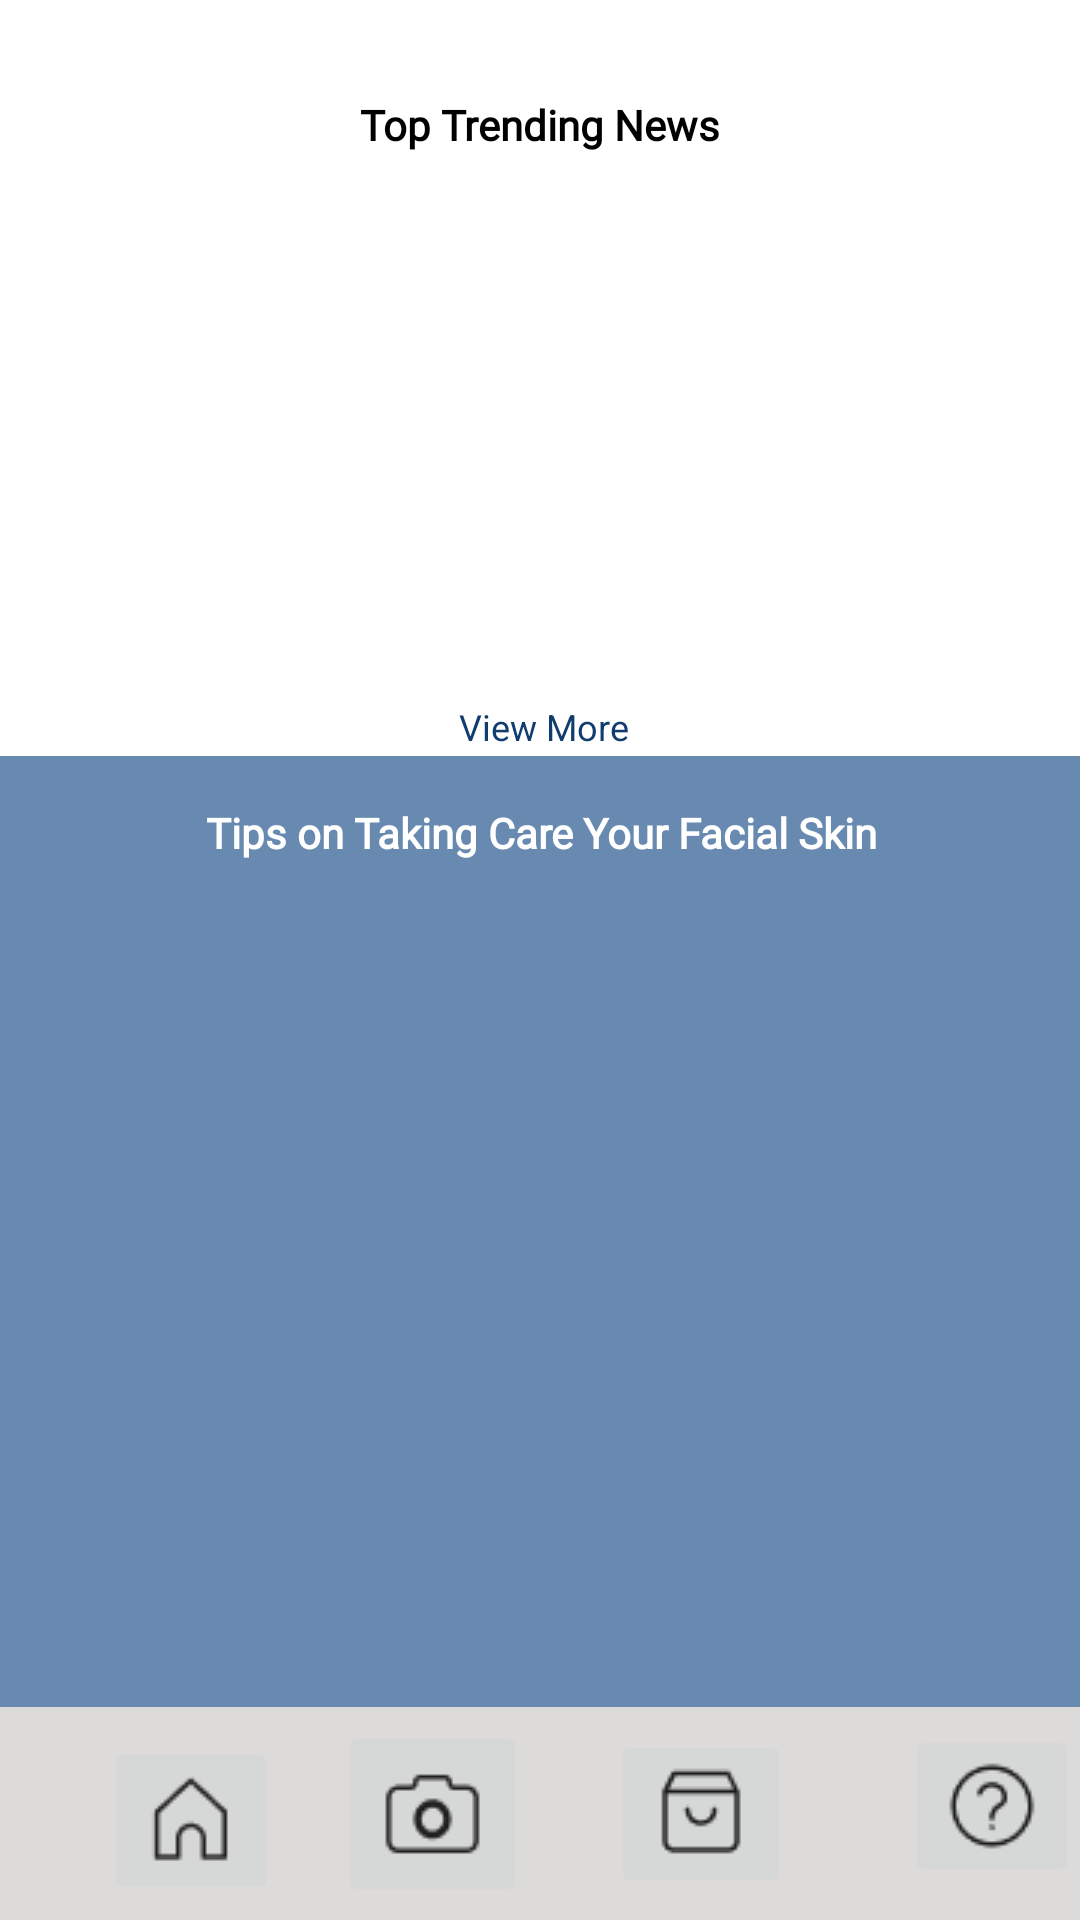

Screen size 1080x1920. Icon name, then its box in pixels as (x1, y1, x2, y2):
buttonaboutus: (949, 1763, 1035, 1849)
buttoncam: (385, 1774, 480, 1854)
buttonhome: (153, 1777, 228, 1861)
buttonproduct: (661, 1769, 741, 1854)
